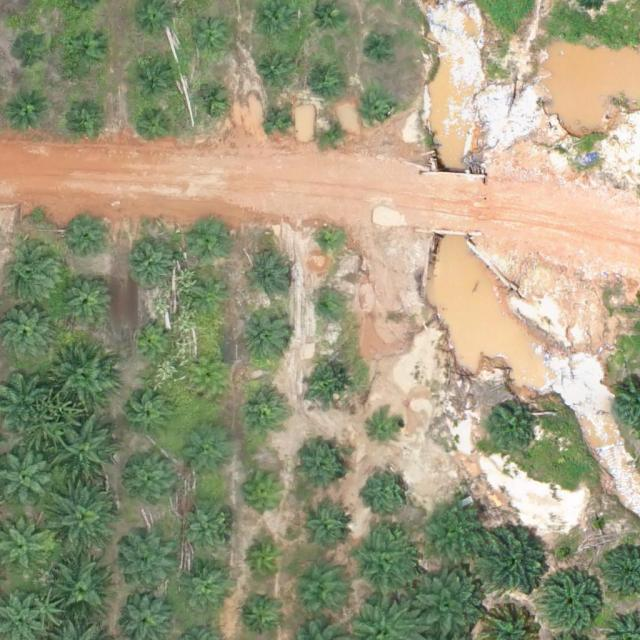Healthy: (474, 520, 552, 599), (351, 529, 421, 600), (420, 497, 490, 568), (50, 487, 120, 557), (538, 570, 608, 640), (55, 424, 118, 487), (288, 564, 350, 627), (50, 556, 112, 619), (3, 244, 65, 307), (52, 347, 114, 409), (124, 454, 179, 510), (178, 506, 233, 561), (179, 563, 234, 618), (121, 536, 176, 591), (60, 273, 115, 328), (126, 238, 180, 293), (2, 307, 56, 362), (245, 312, 292, 359)
Small: (297, 443, 352, 498), (299, 503, 354, 558), (485, 404, 540, 459), (245, 251, 292, 299), (302, 364, 349, 412), (366, 466, 413, 514), (125, 391, 172, 438), (186, 431, 233, 478), (64, 217, 111, 264), (240, 386, 287, 433), (244, 469, 291, 516), (238, 592, 285, 639), (242, 537, 289, 584), (12, 33, 52, 73), (66, 29, 105, 69), (190, 220, 230, 259), (369, 409, 408, 449), (6, 93, 45, 132), (137, 58, 176, 97), (65, 96, 104, 135), (131, 321, 170, 360), (135, 107, 174, 146), (194, 280, 233, 319), (191, 22, 230, 61), (194, 83, 233, 122), (310, 61, 349, 100), (256, 52, 295, 91), (265, 105, 296, 137), (318, 118, 349, 150), (363, 97, 394, 128), (369, 31, 400, 62), (314, 227, 345, 258), (311, 294, 342, 325)
Yellow: (188, 358, 227, 398)
